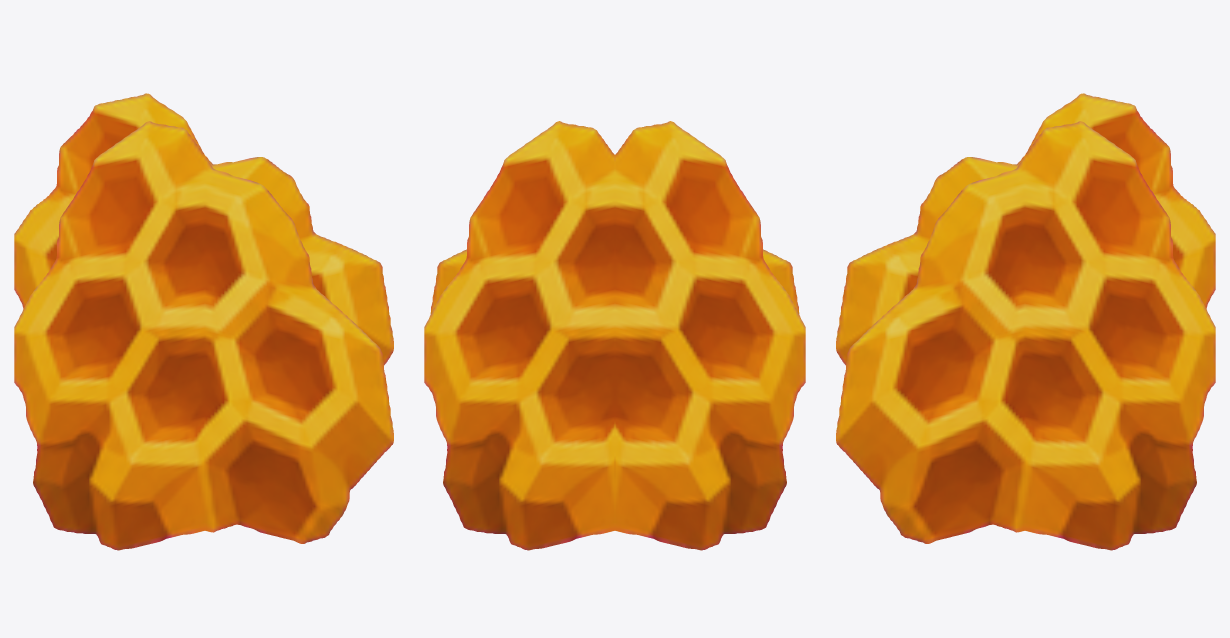
File: h_ruche_caillou.glb
3 renders of one model, left to right at view 1: azimuth 30°, elevation 25°; view 2: azimuth 150°, elevation 25°; view 3: azimuth 270°, elevation 25°, orthographic.
Parts seen in each view (by area): view 1: h_ruche_caillou; view 2: h_ruche_caillou; view 3: h_ruche_caillou.
Boxes of the visible parts, x1,y1,x2,y2 form: h_ruche_caillou: [14, 93, 393, 550]; h_ruche_caillou: [424, 121, 805, 550]; h_ruche_caillou: [836, 93, 1215, 550].
Bounding box in the file's own units: 0.3013 × 0.32 × 0.261.
Materials: 1 (1 with a texture image).
